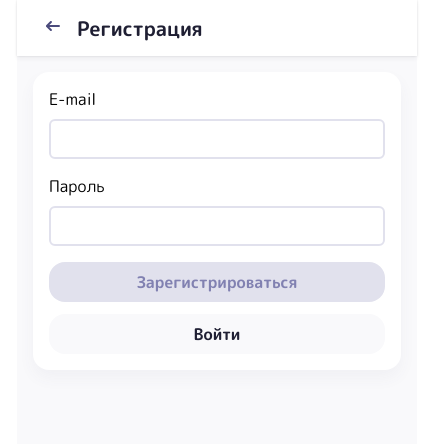
Test: Registration › submit invalid form
Type "123@m" into the field labelled "E-mail".
click(217, 139); type("123@m")  # box [49,119,385,159]
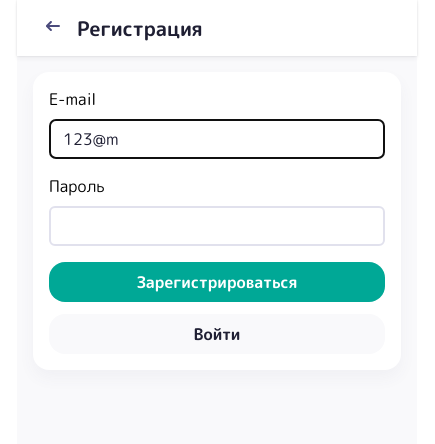
Click the button "Зарегистрироваться".
click(217, 282)  # box [49,262,385,302]
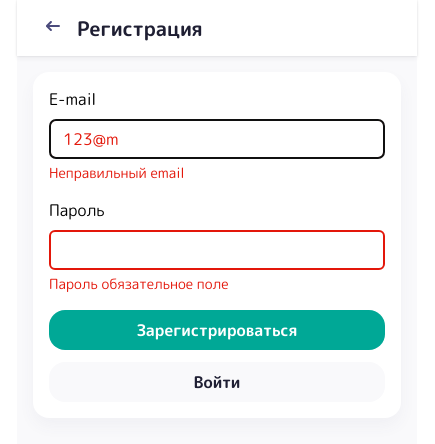
Check: the text "Неправильный email" is shown, box [49,163,185,182]
Check: the text "Пароль обязательное поле" is shown, box [49,274,228,293]
